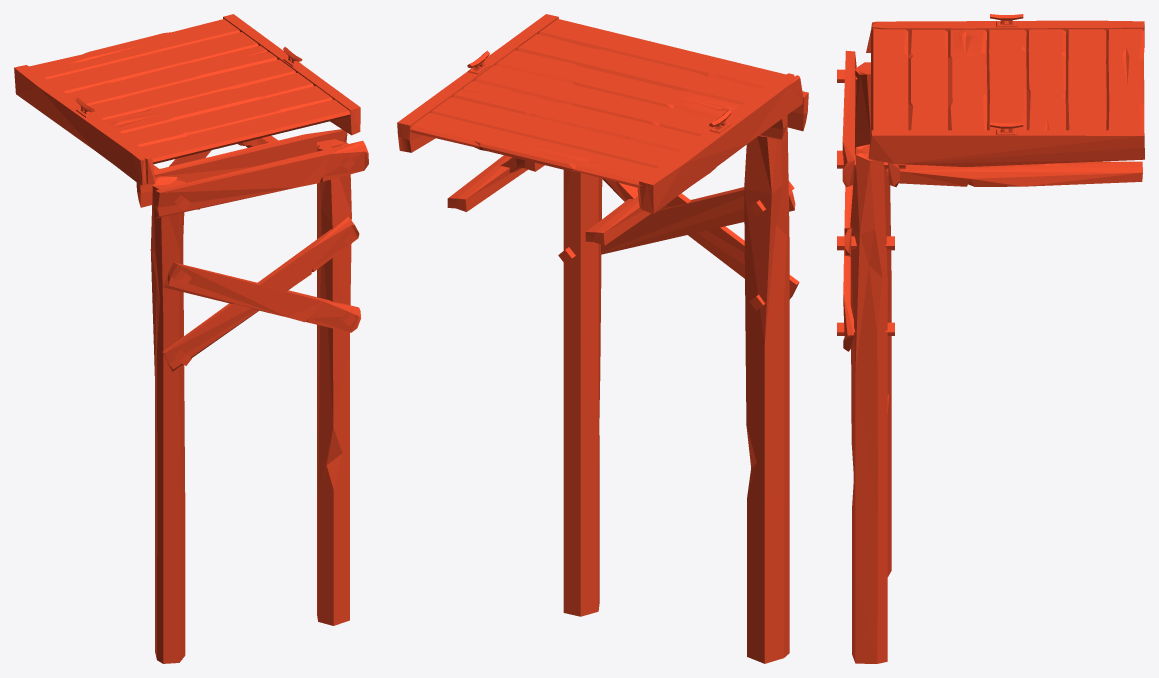
File: SM_Pier_Short_Bollard_City.fbx
The picture shows the model from 3 angles, left to right: view 1: azimuth 30°, elevation 25°; view 2: azimuth 150°, elevation 25°; view 3: azimuth 270°, elevation 25°; orthographic projection. The views are drawn at different scales.
Parts seen in each view (by area): view 1: SM_Pier_Short_Bollard_City; view 2: SM_Pier_Short_Bollard_City; view 3: SM_Pier_Short_Bollard_City.
Boxes of the visible parts, box(x1,y1,x2,y2) form: SM_Pier_Short_Bollard_City: box(14, 14, 368, 663); SM_Pier_Short_Bollard_City: box(397, 14, 808, 663); SM_Pier_Short_Bollard_City: box(837, 14, 1144, 663).
Size of the model in its own units: 3 by 6.66 by 3.39.
